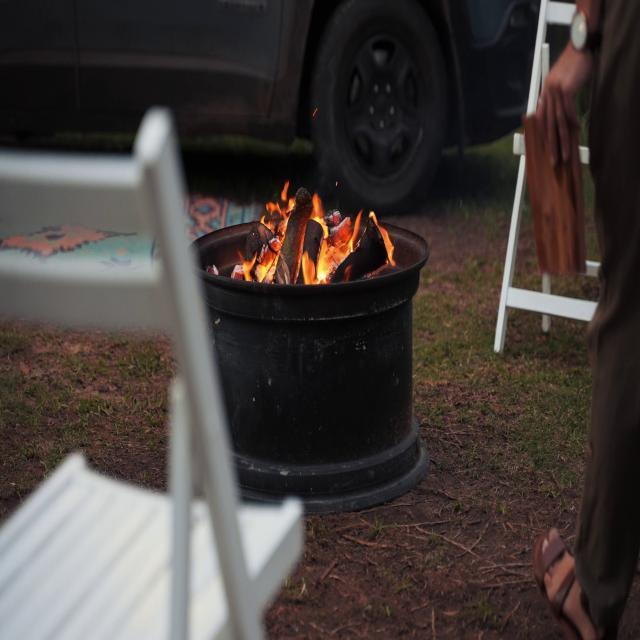Fire: (242, 175, 392, 278)
